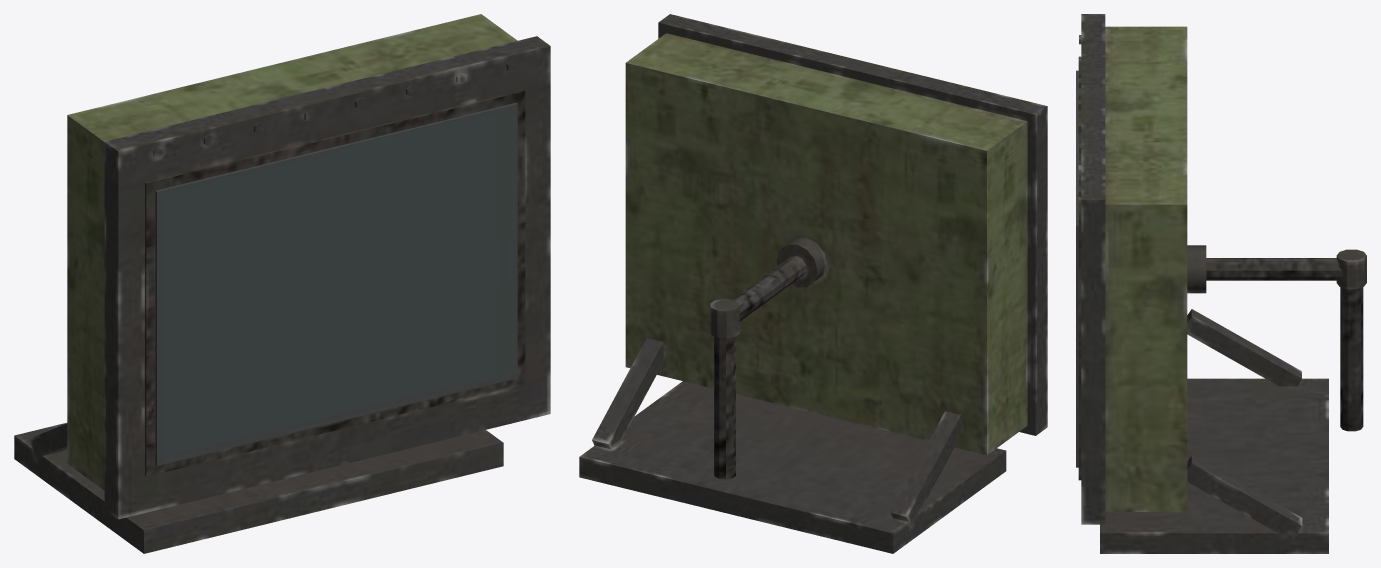
Rendered from feDisplayPanel.glb.
3 views of the same model, side by side, from view 1: azimuth 30°, elevation 25°; view 2: azimuth 150°, elevation 25°; view 3: azimuth 270°, elevation 25° (orthographic). The views are drawn at different scales.
Visible parts, largest first — view 1: feDisplayPanel_Base; view 2: feDisplayPanel_Base; view 3: feDisplayPanel_Base.
Boxes of the visible parts, x1,y1,x2,y2 form: feDisplayPanel_Base: [14, 14, 550, 553]; feDisplayPanel_Base: [579, 14, 1047, 553]; feDisplayPanel_Base: [1076, 14, 1366, 553].
Size of the model in its own units: 0.9624 by 0.8912 by 0.6355.
1 material, 1 textured.
